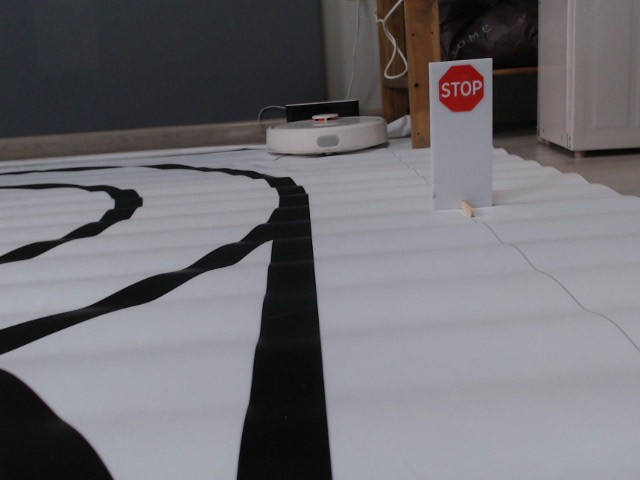Stop: (438, 63, 485, 113)
